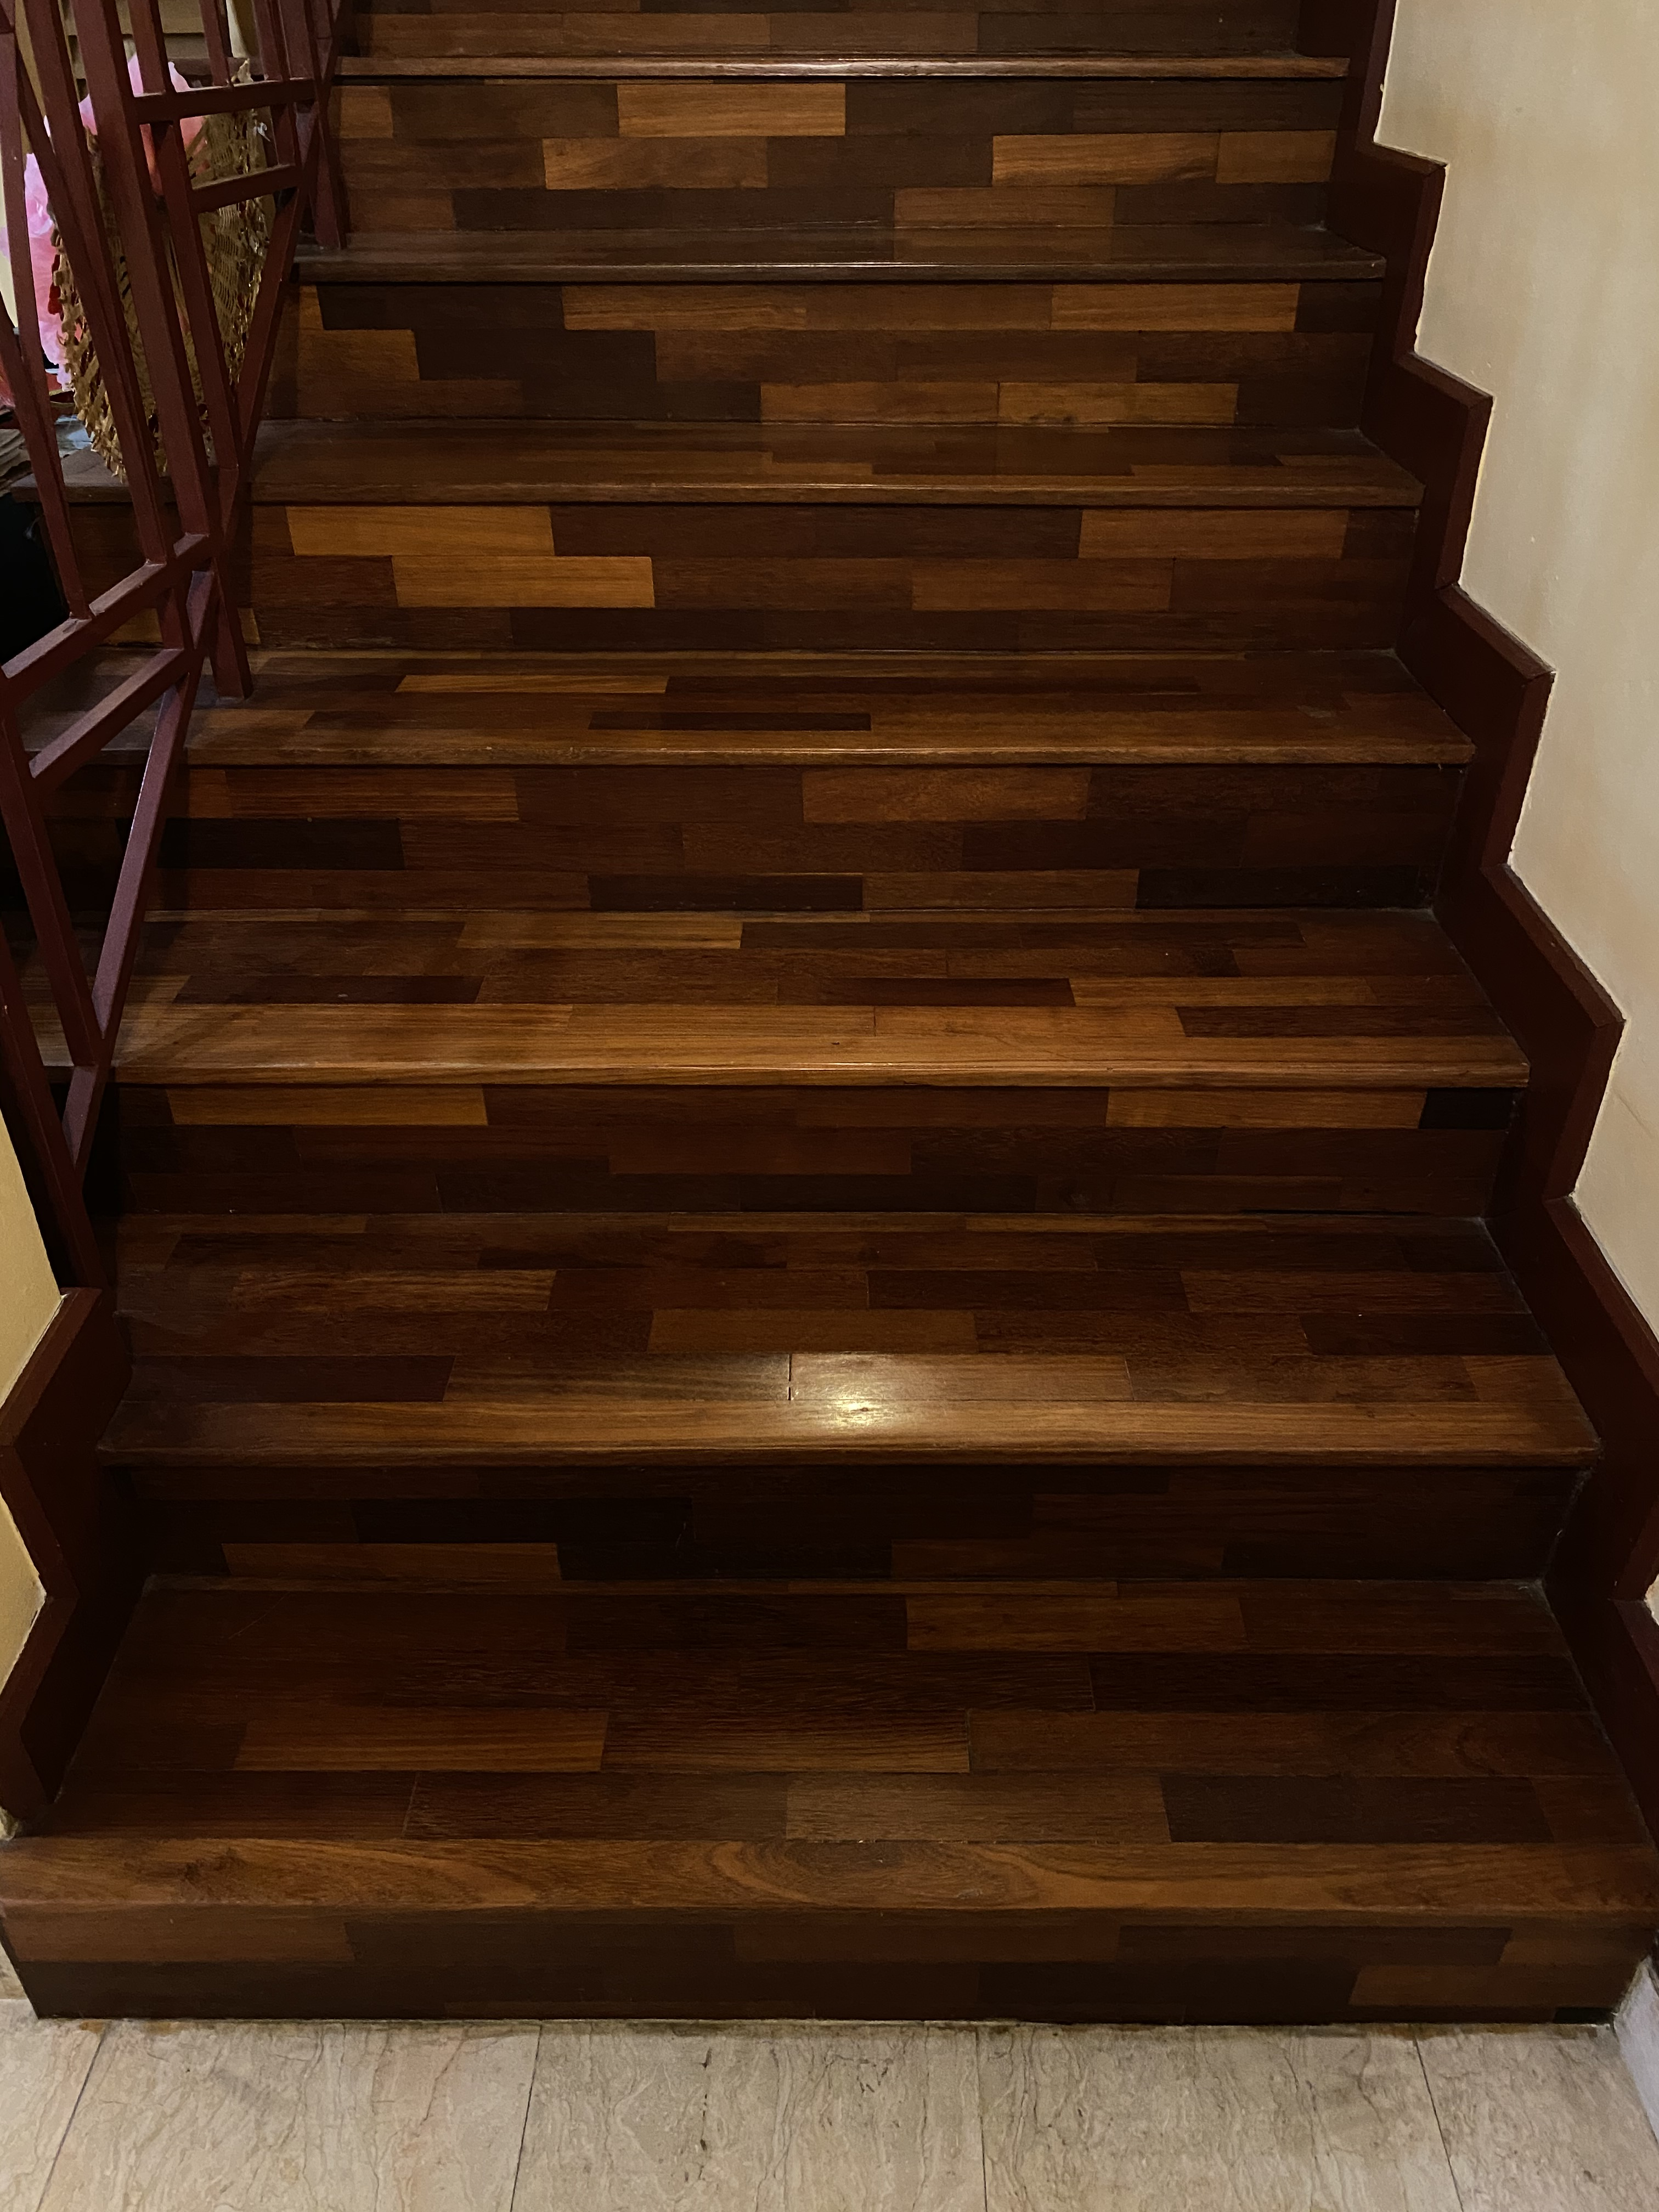upstairs: (221, 409, 1420, 2116)
